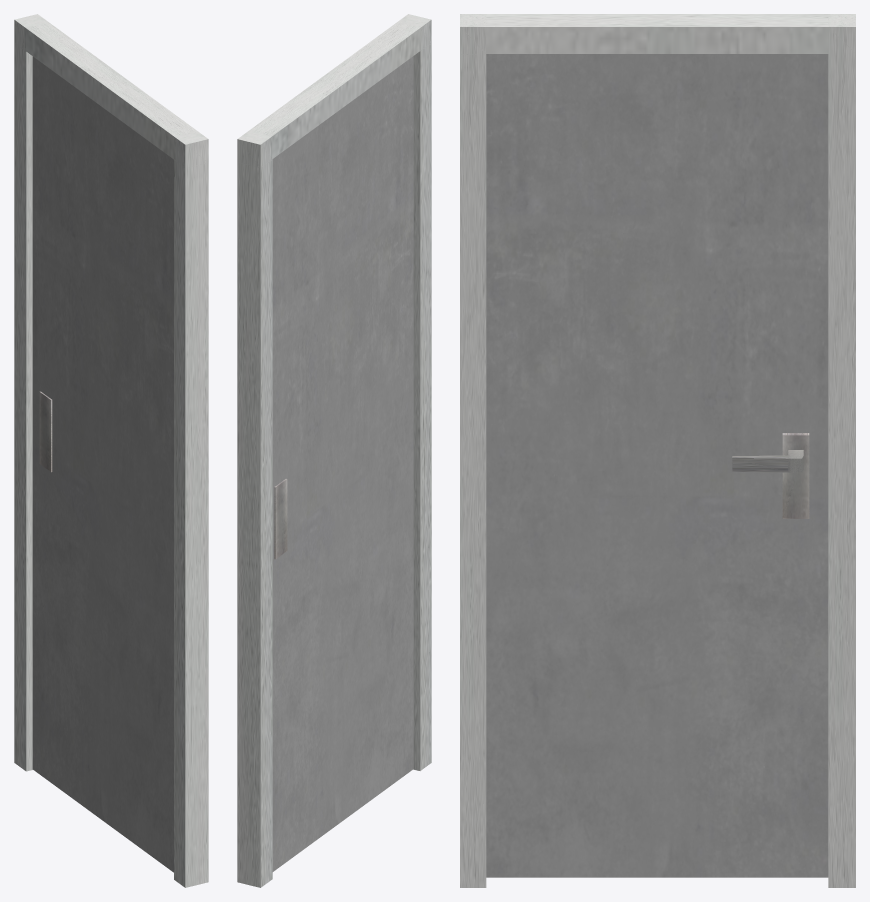
File: Door.obj
3 renders of one model, left to right at view 1: azimuth 30°, elevation 25°; view 2: azimuth 150°, elevation 25°; view 3: azimuth 270°, elevation 25°, orthographic. The views are drawn at different scales.
Parts seen in each view (by area): view 1: Plane, Cube_Cube.001, Plane.001; view 2: Plane, Cube_Cube.001, Plane.001; view 3: Plane, Cube_Cube.001, Plane.001, Cube.001_Cube.003.
Part boxes in pixels (x1=…): Plane: x1=32, y1=56, x2=173, y2=872; Cube_Cube.001: x1=14, y1=14, x2=208, y2=887; Plane.001: x1=39, y1=391, x2=52, y2=472; Plane: x1=272, y1=56, x2=413, y2=871; Cube_Cube.001: x1=237, y1=14, x2=431, y2=887; Plane.001: x1=274, y1=479, x2=287, y2=559; Plane: x1=486, y1=54, x2=828, y2=877; Cube_Cube.001: x1=460, y1=14, x2=855, y2=887; Plane.001: x1=782, y1=433, x2=809, y2=518; Cube.001_Cube.003: x1=732, y1=450, x2=803, y2=472.
Bounding box in the file's own units: 0.0745 × 2.04 × 0.8492.
